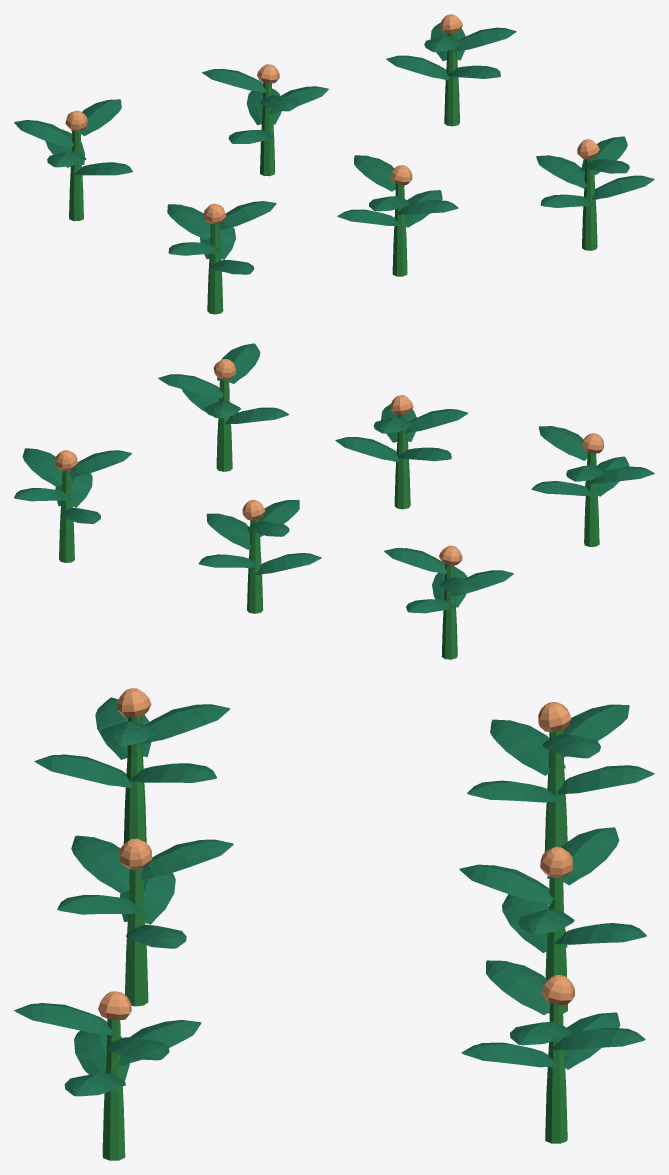
The model's file is Kleine Plantjes.fbx.
3 renders of one model, top to bottom at view 1: azimuth 30°, elevation 25°; view 2: azimuth 150°, elevation 25°; view 3: azimuth 270°, elevation 25°, orthographic. The views are drawn at different scales.
Visible parts, largest first — view 1: Plane.033; view 2: Plane.033; view 3: Plane.033.
Boxes of the visible parts, bbox=[...] form: Plane.033: bbox=[14, 14, 654, 314]; Plane.033: bbox=[14, 343, 654, 659]; Plane.033: bbox=[14, 688, 654, 1160].
Bounding box in the file's own units: 1.9 × 0.4819 × 1.44.
